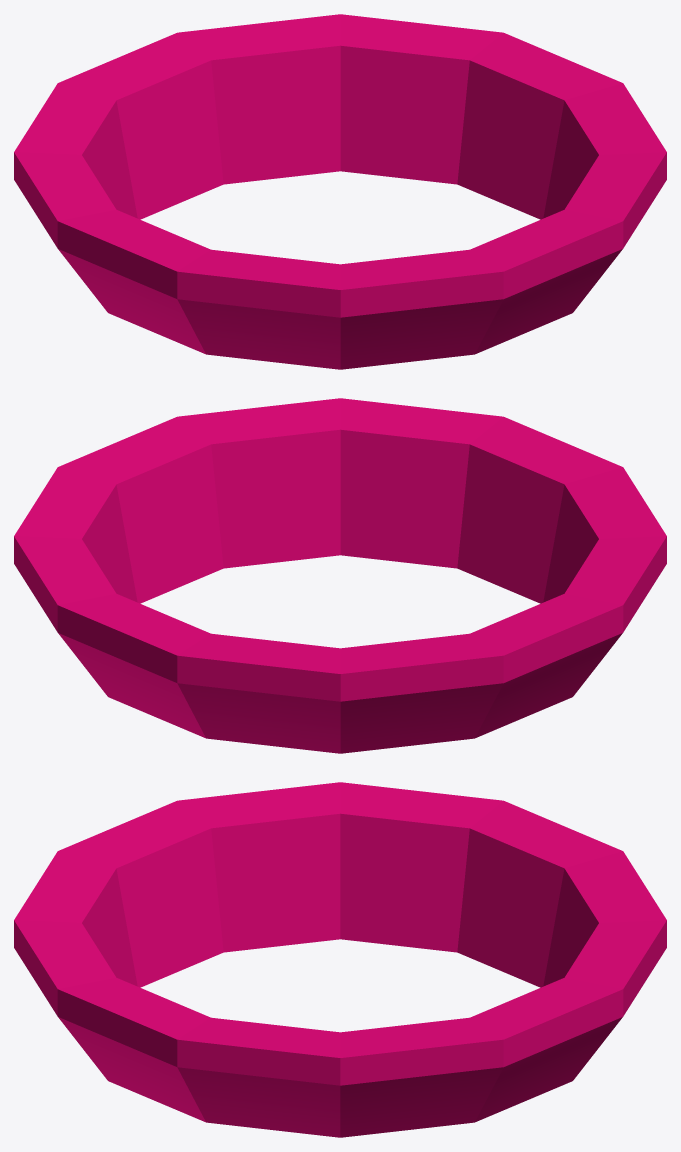
File: Light_Jar_01.fbx
3 renders of one model, top to bottom at view 1: azimuth 30°, elevation 25°; view 2: azimuth 150°, elevation 25°; view 3: azimuth 270°, elevation 25°, orthographic.
Parts seen in each view (by area): view 1: Light_Jar_01; view 2: Light_Jar_01; view 3: Light_Jar_01.
Boxes of the visible parts, left/top/right/bottom form: Light_Jar_01: left=14, top=14, right=666, bottom=369; Light_Jar_01: left=14, top=398, right=666, bottom=753; Light_Jar_01: left=14, top=782, right=666, bottom=1137.
Size of the model in its own units: 62.66 by 12.48 by 62.66.
